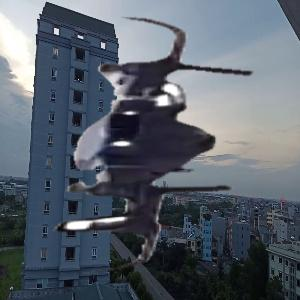drone: (3, 8, 278, 283)
